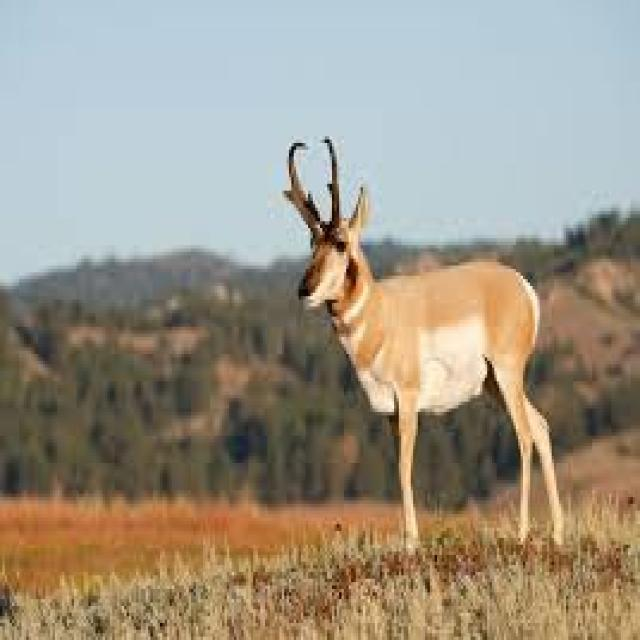Antelope: (281, 128, 567, 552)
